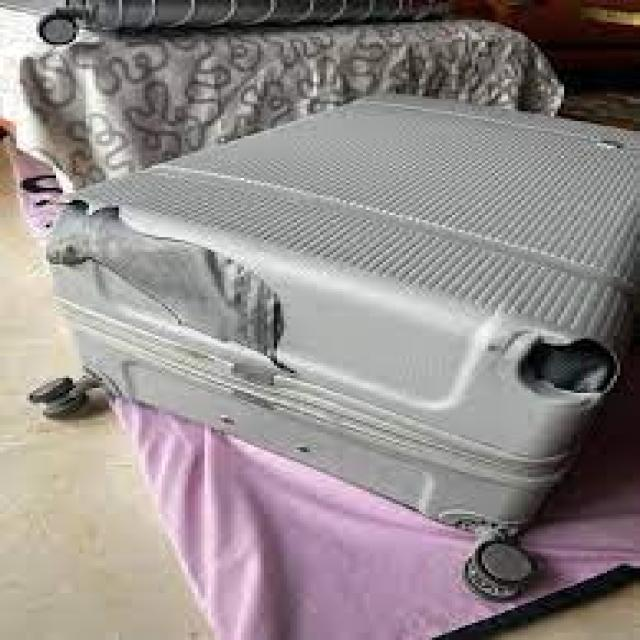Damage-bag: (51, 196, 292, 371), (509, 331, 616, 394)
